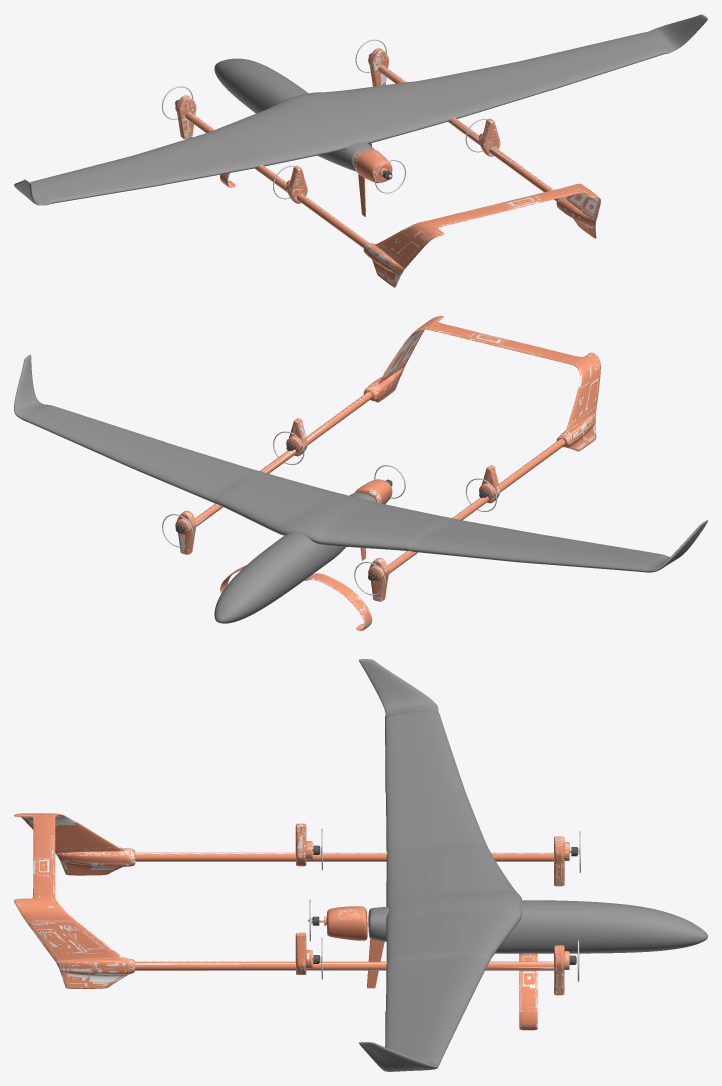
Rendered from AltiTransition6.FBX.
3 renders of one model, top to bottom at view 1: azimuth 30°, elevation 25°; view 2: azimuth 150°, elevation 25°; view 3: azimuth 270°, elevation 25°, orthographic. The views are drawn at different scales.
Visible parts, largest first — view 1: ~CS_RMW, ~CS_LMW, ~CS_FUSELAGE, ~CS_LMVS, ~CS_MMHS, ~CS_BOOML, ~CS_BOOMR, ~CS_FMM, ~CS_LMVS1, ~CS_RMVS, ~CS_RMVS1, ~CS_POD3 (+3 smaller); view 2: ~CS_RMW, ~CS_LMW, ~CS_FUSELAGE, ~CS_LMVS, ~CS_MMHS, ~CS_BOOML, ~CS_BOOMR, ~CS_RMVS, ~CS_LGL, ~CS_LMVS1, ~CS_POD1, ~CS_POD3 (+2 smaller); view 3: ~CS_LMW, ~CS_RMW, ~CS_FUSELAGE, ~CS_RMVS, ~CS_BOOMR, ~CS_BOOML, ~CS_RMVS1, ~CS_MMHS, ~CS_LMVS, ~CS_LMVS1, ~CS_FMM, ~CS_LGR (+2 smaller).
Boxes of the visible parts, box(x1,y1,x2,y2) form: ~CS_RMW: box(302, 14, 707, 143); ~CS_LMW: box(14, 95, 355, 205); ~CS_FUSELAGE: box(214, 58, 374, 171); ~CS_LMVS: box(374, 220, 443, 268); ~CS_MMHS: box(428, 185, 583, 227); ~CS_BOOML: box(185, 112, 369, 248); ~CS_BOOMR: box(378, 65, 558, 201); ~CS_FMM: box(353, 149, 392, 183); ~CS_LMVS1: box(363, 243, 404, 287); ~CS_RMVS: box(565, 183, 600, 221); ~CS_RMVS1: box(556, 196, 596, 238); ~CS_POD3: box(175, 95, 196, 139); ~CS_RMW: box(14, 354, 354, 535); ~CS_LMW: box(299, 497, 707, 572); ~CS_FUSELAGE: box(214, 492, 376, 623); ~CS_LMVS: box(565, 352, 600, 432); ~CS_MMHS: box(427, 322, 582, 364); ~CS_BOOML: box(387, 439, 565, 573); ~CS_BOOMR: box(195, 392, 372, 526); ~CS_RMVS: box(375, 316, 443, 385); ~CS_LGL: box(304, 573, 372, 630); ~CS_LMVS1: box(556, 413, 596, 451); ~CS_POD1: box(175, 510, 196, 554); ~CS_POD3: box(368, 557, 389, 601); ~CS_LMW: box(359, 659, 521, 909); ~CS_RMW: box(359, 899, 521, 1071); ~CS_FUSELAGE: box(368, 900, 707, 953); ~CS_RMVS: box(14, 898, 124, 960); ~CS_BOOMR: box(135, 961, 553, 970); ~CS_BOOML: box(135, 852, 553, 861); ~CS_RMVS1: box(55, 958, 135, 988); ~CS_MMHS: box(31, 815, 55, 898); ~CS_LMVS: box(14, 813, 125, 852); ~CS_LMVS1: box(55, 847, 135, 875); ~CS_FMM: box(319, 906, 367, 940); ~CS_LGR: box(519, 953, 537, 1030).
Size of the model in its own units: 134 by 22.96 by 102.
3 materials, 1 textured.
